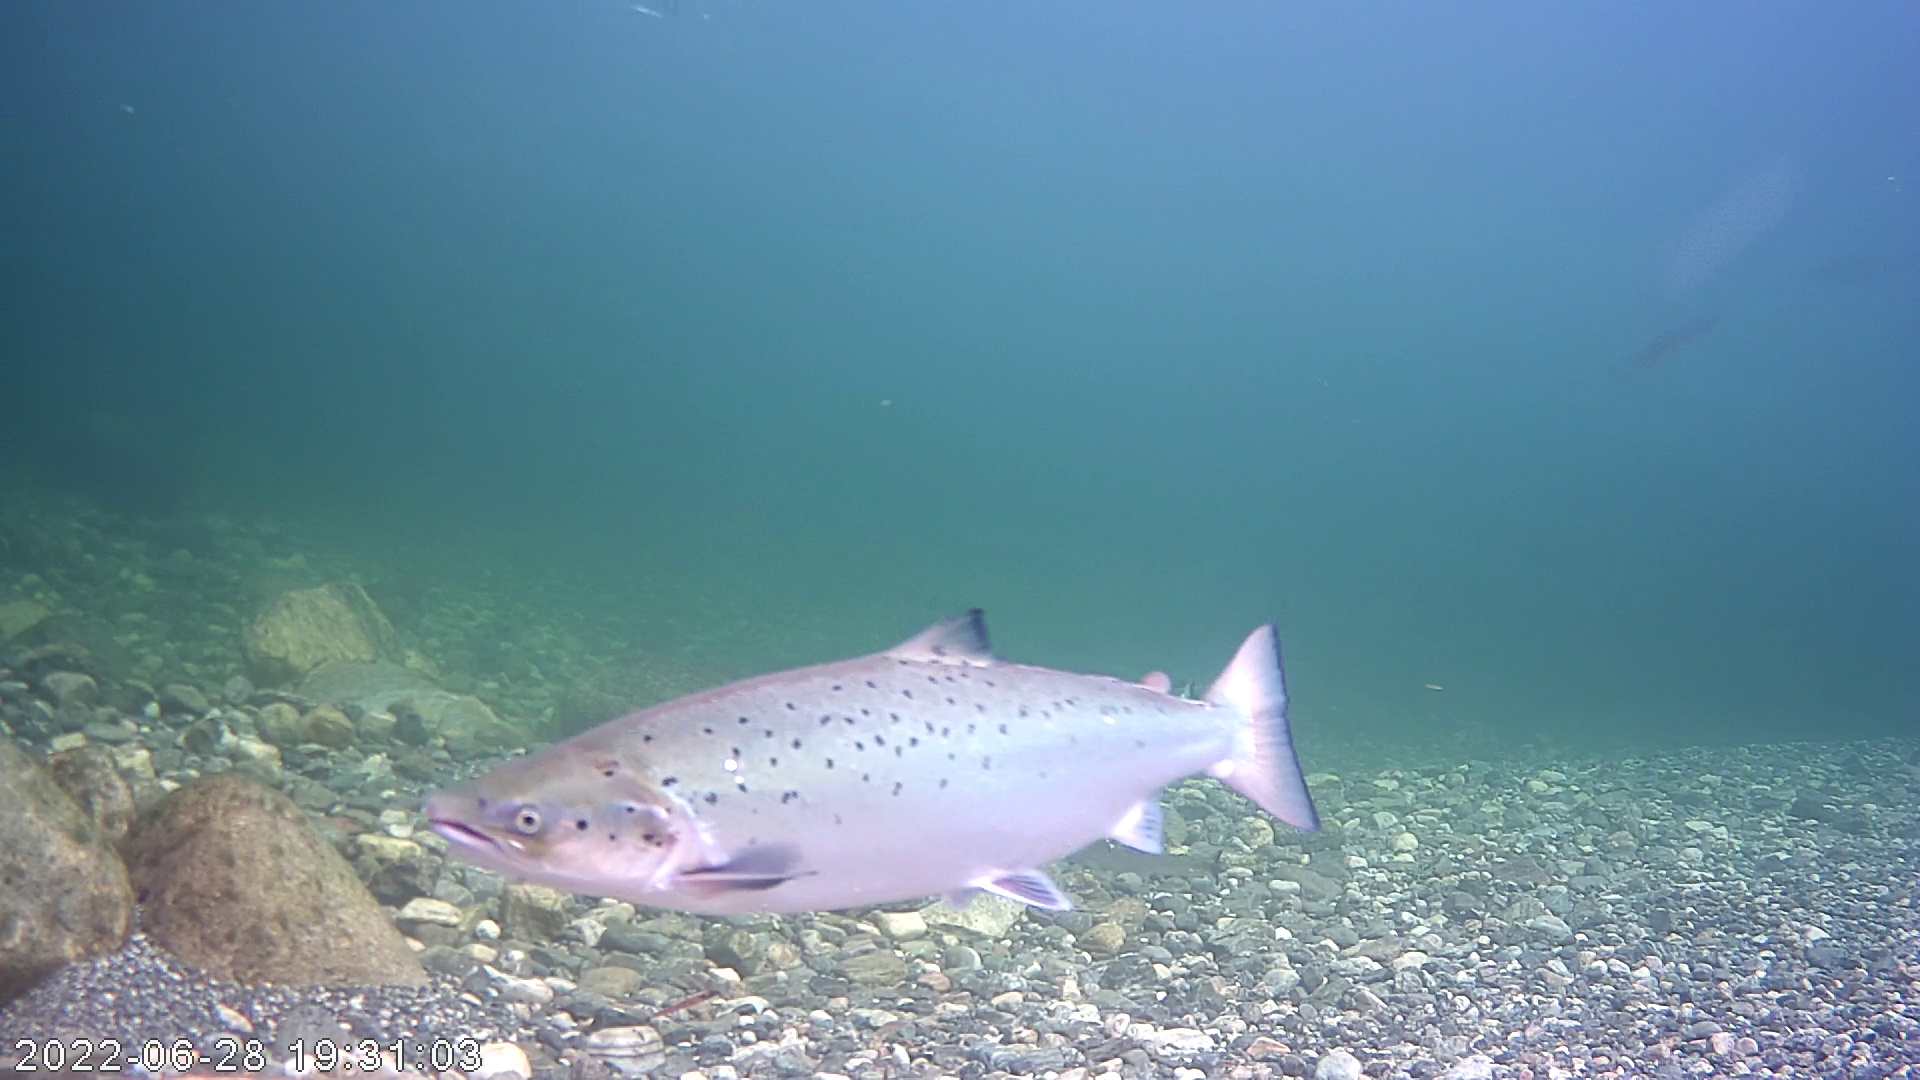salmon: (436, 559, 1341, 951)
